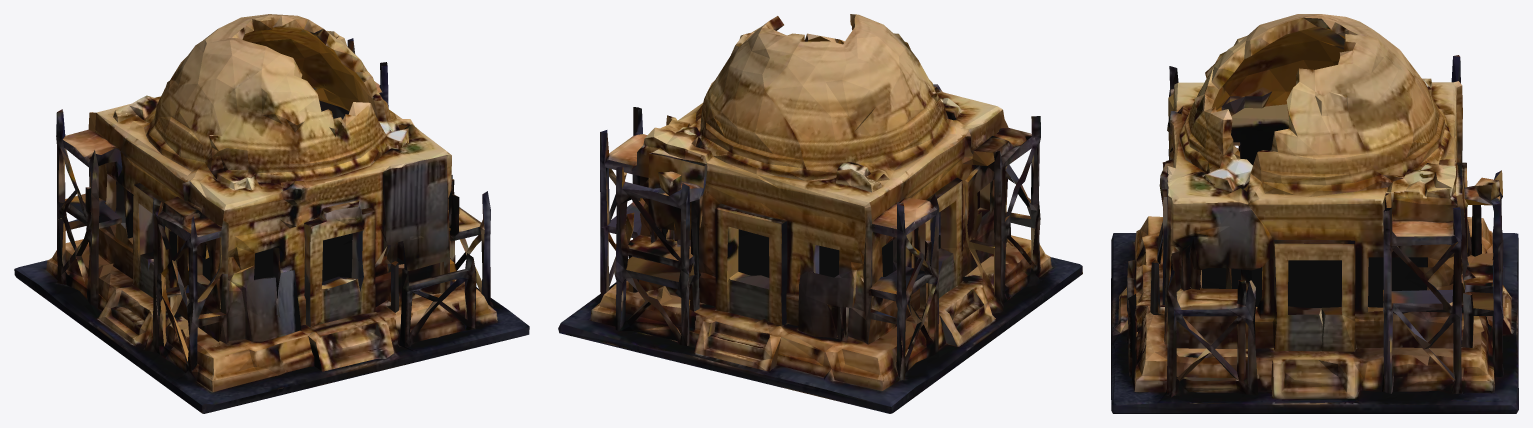
The model's file is temple-shrine.glb.
3 views of the same model, side by side, from view 1: azimuth 30°, elevation 25°; view 2: azimuth 150°, elevation 25°; view 3: azimuth 270°, elevation 25° (orthographic). The views are drawn at different scales.
Parts seen in each view (by area): view 1: tmp6z24_pjk.ply; view 2: tmp6z24_pjk.ply; view 3: tmp6z24_pjk.ply.
Boxes of the visible parts, bbox=[...] form: tmp6z24_pjk.ply: bbox=[14, 14, 529, 413]; tmp6z24_pjk.ply: bbox=[558, 14, 1082, 413]; tmp6z24_pjk.ply: bbox=[1111, 14, 1518, 413].
Bounding box in the file's own units: 5 × 4 × 5.
Materials: 1 (1 with a texture image).
